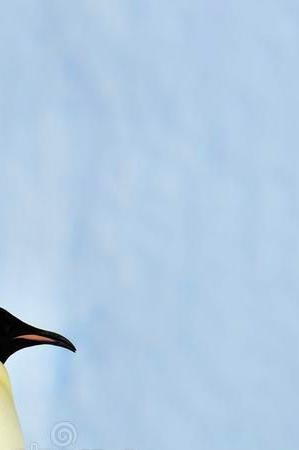Emperor Penguin: (0, 281, 115, 450)
